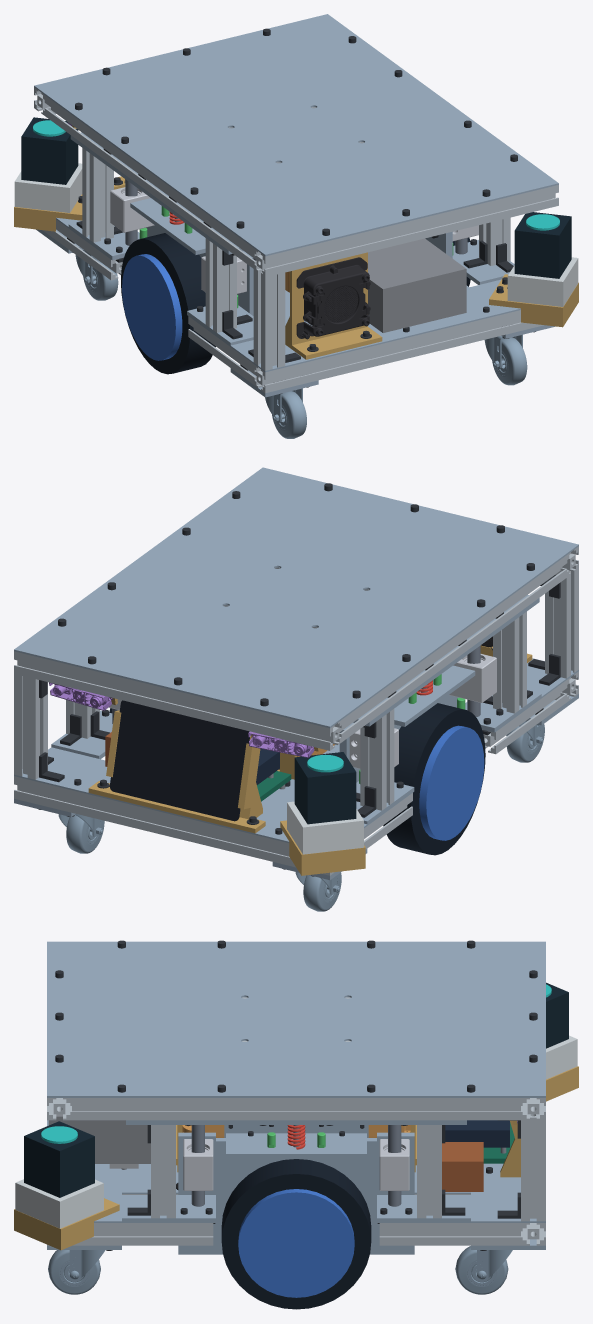
The model's file is amr_p30.glb.
3 renders of one model, top to bottom at view 1: azimuth 30°, elevation 25°; view 2: azimuth 150°, elevation 25°; view 3: azimuth 270°, elevation 25°, orthographic. The views are drawn at different scales.
Visible parts, largest first — view 1: 13_P30_deck_2p3t, 66_DCDC_DDR-240B-24_ENVELOPE, 07_P30_top_rear_rail, 02_P30_lower_rear_rail, 31_casing_OD140_ASSUMED_LEFT, 68_company_speaker_STEP, 30_NBR_OD180_W42p5_LEFT, 08_P30_top_side_rail_L, 12_P30_floor_plate_2t, 05_P30_corner_post_LB, 76_SICK_TiM571_optical_envelope_REAR_RIGHT, 68_speaker_holder_PRINTED (+23 smaller); view 2: 13_P30_deck_2p3t, 67_company_LCD_7in_STEP, 07_P30_top_front_rail, 01_P30_lower_front_rail, 31_casing_OD140_ASSUMED_LEFT, 30_NBR_OD180_W42p5_LEFT, 08_P30_top_side_rail_L, 12_P30_floor_plate_2t, 76_SICK_TiM571_optical_envelope_FRONT_LEFT, 67_LCD_holder_PRINTED, 05_P30_corner_post_RF, 05_P30_corner_post_LB (+23 smaller); view 3: 13_P30_deck_2p3t, 08_P30_top_side_rail_R, 31_casing_OD140_ASSUMED_RIGHT, 30_NBR_OD180_W42p5_RIGHT, 36_axle_plate_SS400_10t_RIGHT, 12_P30_floor_plate_2t, 76_SICK_TiM571_optical_envelope_REAR_RIGHT, 04_P30_lower_side_stub_RF, 37_spring_seat_SS400_6t_RIGHT, 04_P30_lower_side_stub_RB, 39_linear_bush_LHSS16_RIGHT, 75_SICK_TiM571_envelope_base_REAR_RIGHT (+27 smaller).
Boxes of the visible parts, <box> form: 13_P30_deck_2p3t: <box>34,14,558,256</box>; 66_DCDC_DDR-240B-24_ENVELOPE: <box>368,238,466,332</box>; 07_P30_top_rear_rail: <box>253,185,558,277</box>; 02_P30_lower_rear_rail: <box>253,310,543,393</box>; 31_casing_OD140_ASSUMED_LEFT: <box>122,254,182,360</box>; 68_company_speaker_STEP: <box>296,257,370,339</box>; 30_NBR_OD180_W42p5_LEFT: <box>121,233,215,374</box>; 08_P30_top_side_rail_L: <box>45,96,256,268</box>; 12_P30_floor_plate_2t: <box>56,217,520,372</box>; 05_P30_corner_post_LB: <box>253,269,285,370</box>; 76_SICK_TiM571_optical_envelope_REAR_RIGHT: <box>514,212,571,278</box>; 68_speaker_holder_PRINTED: <box>285,252,382,359</box>; 13_P30_deck_2p3t: <box>14,467,578,728</box>; 67_company_LCD_7in_STEP: <box>109,700,249,821</box>; 07_P30_top_front_rail: <box>14,651,342,750</box>; 01_P30_lower_front_rail: <box>14,776,334,875</box>; 31_casing_OD140_ASSUMED_LEFT: <box>419,725,484,840</box>; 30_NBR_OD180_W42p5_LEFT: <box>383,703,485,855</box>; 08_P30_top_side_rail_L: <box>339,555,566,741</box>; 12_P30_floor_plate_2t: <box>14,658,578,842</box>; 76_SICK_TiM571_optical_envelope_FRONT_LEFT: <box>294,752,356,824</box>; 67_LCD_holder_PRINTED: <box>88,710,265,833</box>; 05_P30_corner_post_RF: <box>14,674,47,779</box>; 05_P30_corner_post_LB: <box>545,569,578,678</box>; 13_P30_deck_2p3t: <box>47,941,545,1097</box>; 08_P30_top_side_rail_R: <box>72,1098,520,1120</box>; 31_casing_OD140_ASSUMED_RIGHT: <box>238,1189,354,1297</box>; 30_NBR_OD180_W42p5_RIGHT: <box>221,1159,371,1309</box>; 36_axle_plate_SS400_10t_RIGHT: <box>178,1132,414,1254</box>; 12_P30_floor_plate_2t: <box>47,1120,545,1222</box>; 76_SICK_TiM571_optical_envelope_REAR_RIGHT: <box>24,1121,94,1197</box>; 04_P30_lower_side_stub_RF: <box>379,1223,520,1245</box>; 37_spring_seat_SS400_6t_RIGHT: <box>226,1133,366,1158</box>; 04_P30_lower_side_stub_RB: <box>73,1223,213,1245</box>; 39_linear_bush_LHSS16_RIGHT: <box>183,1139,409,1190</box>; 75_SICK_TiM571_envelope_base_REAR_RIGHT: <box>15,1179,103,1228</box>.
Bounding box in the file's own units: 0.5196 × 0.2933 × 0.6796.
